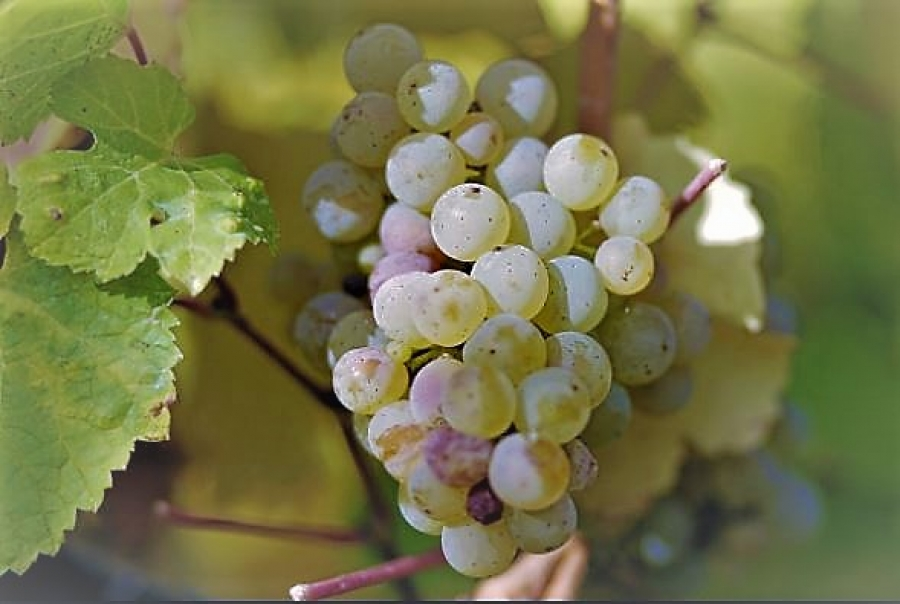Green grapes: (375, 87, 583, 548)
